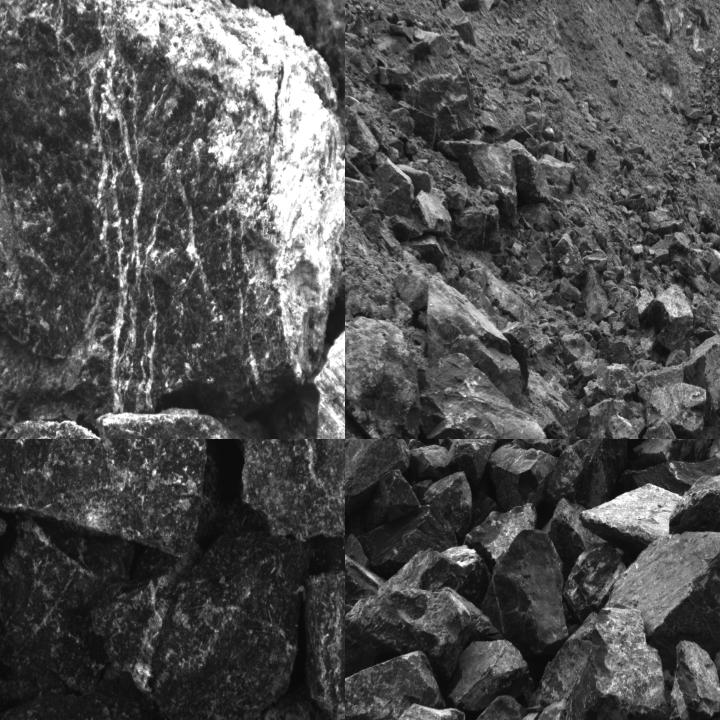stone: (0, 0, 344, 417), (84, 532, 307, 719), (0, 517, 157, 696), (0, 439, 207, 546), (198, 439, 344, 545), (607, 531, 719, 666), (345, 588, 494, 687), (427, 272, 519, 403), (480, 530, 570, 662), (422, 355, 547, 438), (568, 611, 663, 719), (345, 317, 425, 438), (0, 674, 179, 719), (312, 0, 344, 235), (370, 544, 492, 604), (578, 485, 680, 553), (300, 569, 344, 719), (345, 653, 444, 719), (355, 506, 455, 570), (441, 141, 519, 222), (545, 439, 631, 510), (399, 72, 478, 148), (669, 476, 719, 594), (448, 640, 528, 712), (487, 439, 559, 514), (345, 439, 410, 522), (543, 500, 609, 578), (564, 541, 627, 621), (663, 638, 719, 719), (627, 448, 719, 495), (468, 503, 538, 562), (645, 382, 707, 438), (646, 285, 694, 356), (364, 470, 421, 529), (422, 472, 472, 539), (682, 330, 719, 419), (508, 141, 551, 204), (445, 439, 493, 493), (370, 157, 413, 217), (630, 439, 712, 470), (452, 205, 502, 254), (582, 364, 638, 405), (345, 555, 385, 609), (691, 293, 719, 365), (413, 190, 454, 236), (411, 443, 448, 482), (472, 695, 527, 719), (558, 245, 588, 286), (604, 415, 646, 438), (520, 439, 570, 458), (705, 248, 719, 291), (664, 231, 690, 254), (487, 439, 523, 450)
